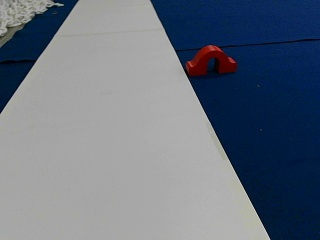bridge: (188, 45, 235, 74)
